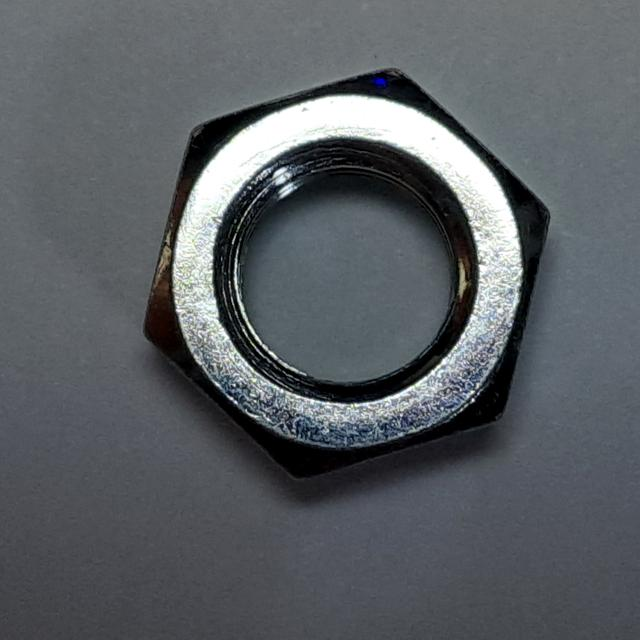Excellent: (124, 51, 569, 502)
